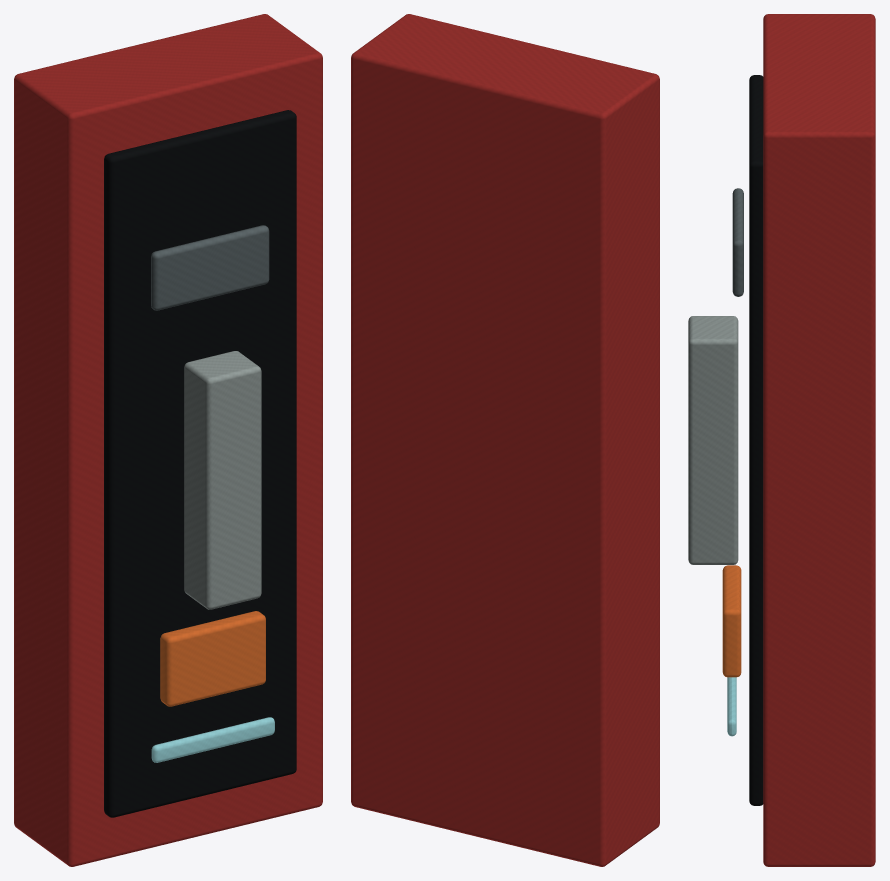
The model's file is EmergencyPhone.glb.
3 renders of one model, left to right at view 1: azimuth 30°, elevation 25°; view 2: azimuth 150°, elevation 25°; view 3: azimuth 270°, elevation 25°, orthographic. The views are drawn at different scales.
Visible parts, largest first — view 1: EmergencyPhone_Mesh; view 2: EmergencyPhone_Mesh; view 3: EmergencyPhone_Mesh.
Boxes of the visible parts, x1,y1,x2,y2 form: EmergencyPhone_Mesh: (14,14,322,866); EmergencyPhone_Mesh: (351,14,659,866); EmergencyPhone_Mesh: (688,14,875,866).
Size of the model in its own units: 0.46 by 1.3 by 0.3.
Materials: 6 (6 with a texture image).
